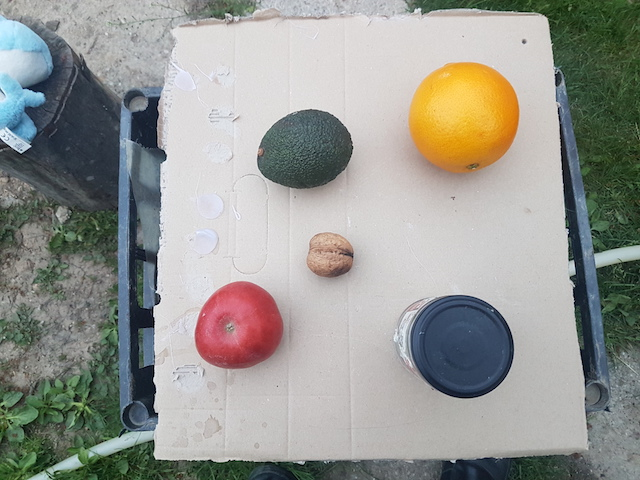apple: (192, 275, 282, 369)
avocado: (254, 106, 359, 190)
nut: (305, 227, 356, 276)
orange: (409, 61, 520, 177)
recipient: (408, 294, 516, 401)
